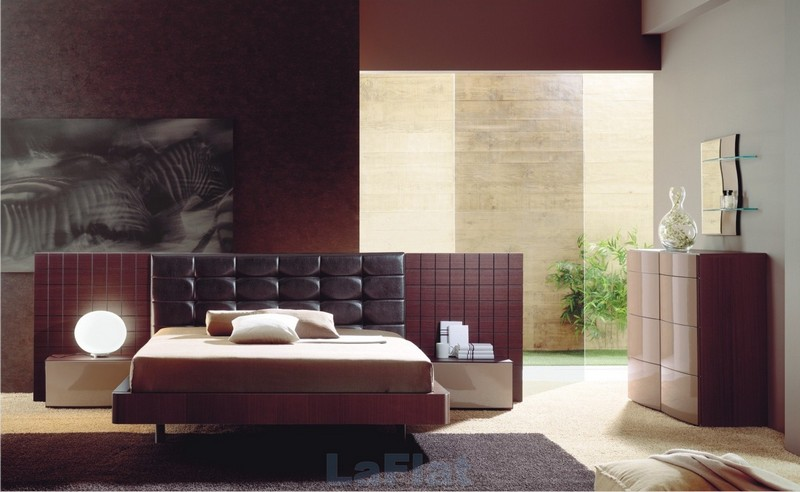bed: (116, 253, 450, 443)
lamp: (70, 303, 128, 362)
stool: (38, 351, 135, 408)
